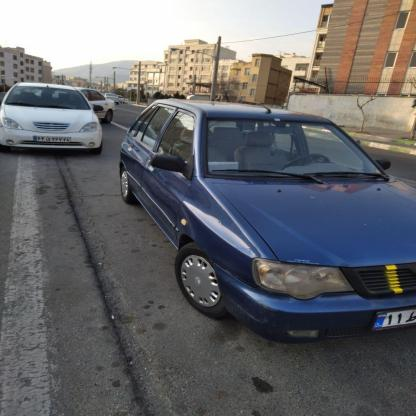Car: (117, 78, 416, 352), (0, 83, 112, 160)
